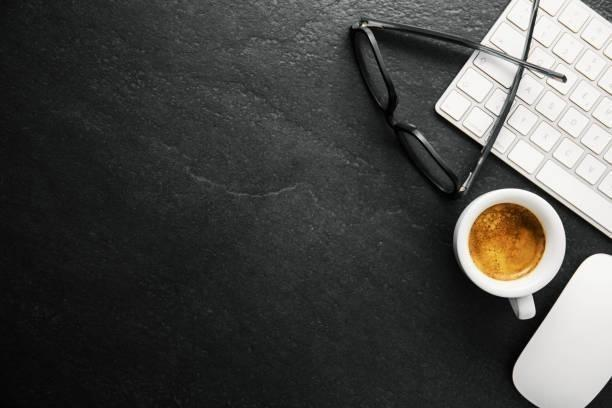cup-handle: (453, 187, 567, 321)
